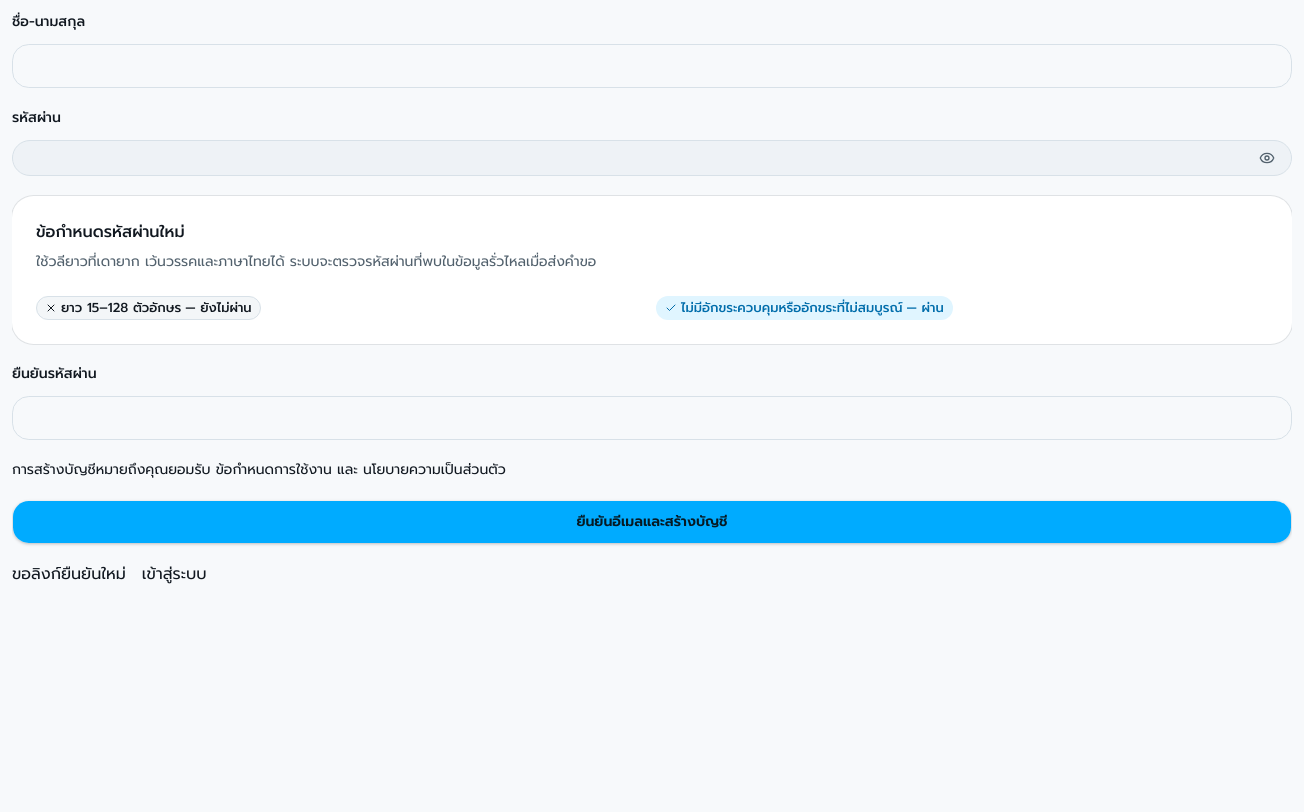
Test: email verification UI › does not confirm on GET, removes the fragment and submits only when the owner chooses credentials
Type "Mailbox Owner" into the field labelled "ชื่อ-นามสกุล" at (652, 66), box left=12, top=44, right=1292, bottom=88
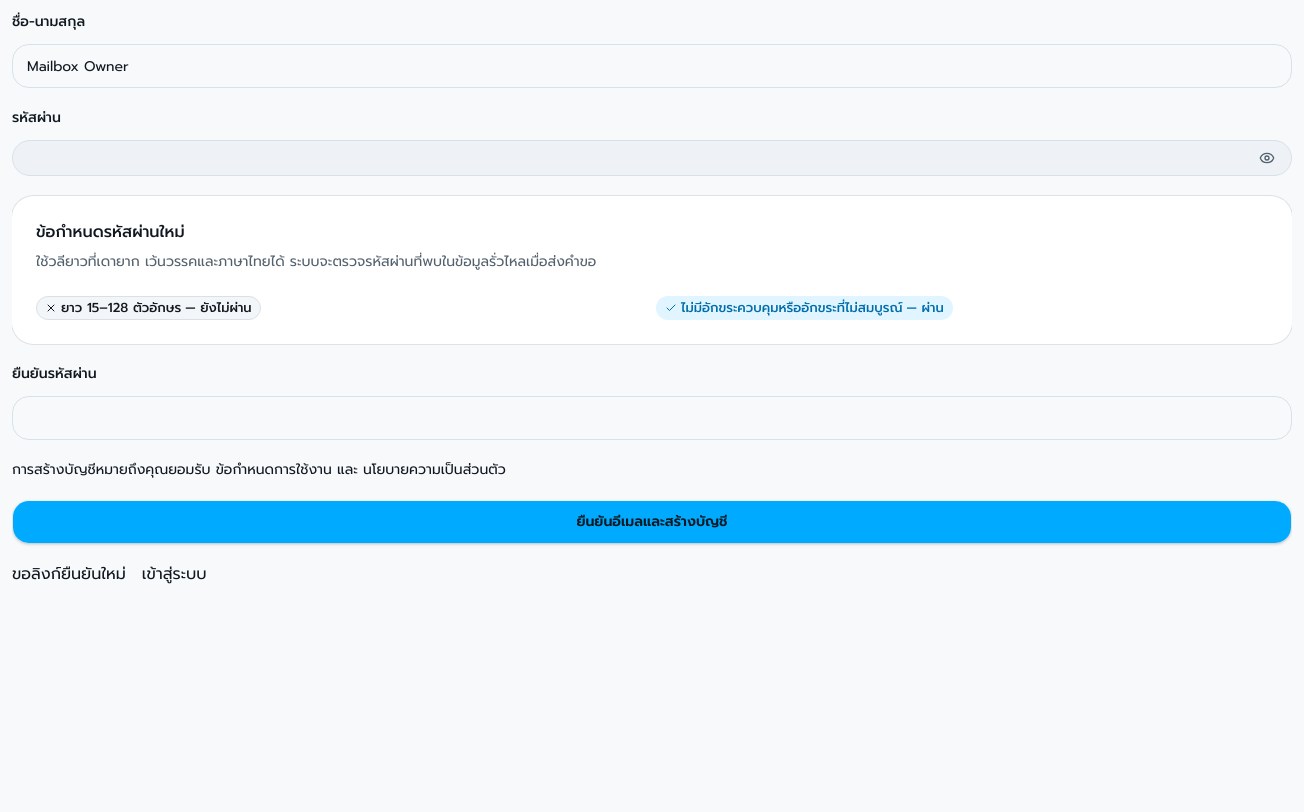
Type "OwnerPassword1!" into the password field labelled "รหัสผ่าน" at (632, 158), box left=13, top=136, right=1251, bottom=180
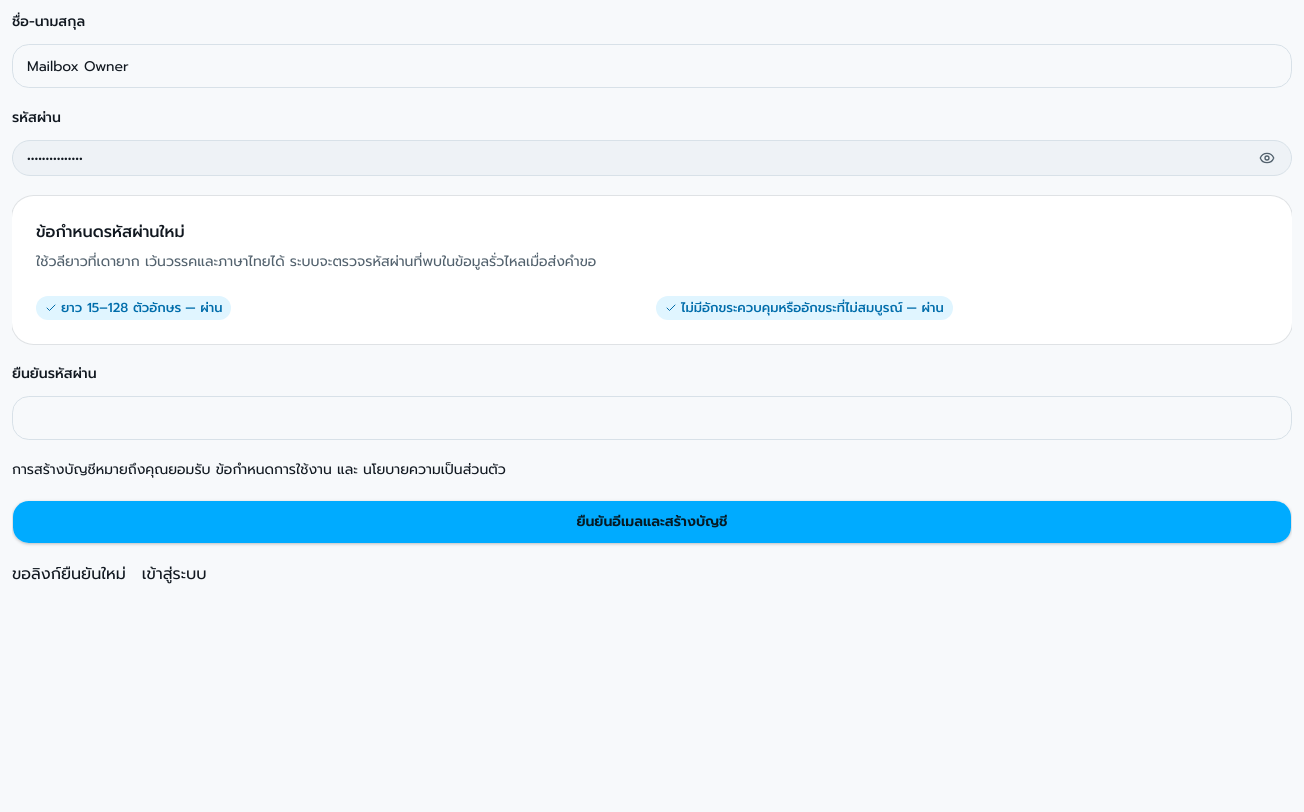
Type "OwnerPassword1!" into the password field labelled "ยืนยันรหัสผ่าน" at (652, 418), box left=12, top=396, right=1292, bottom=440
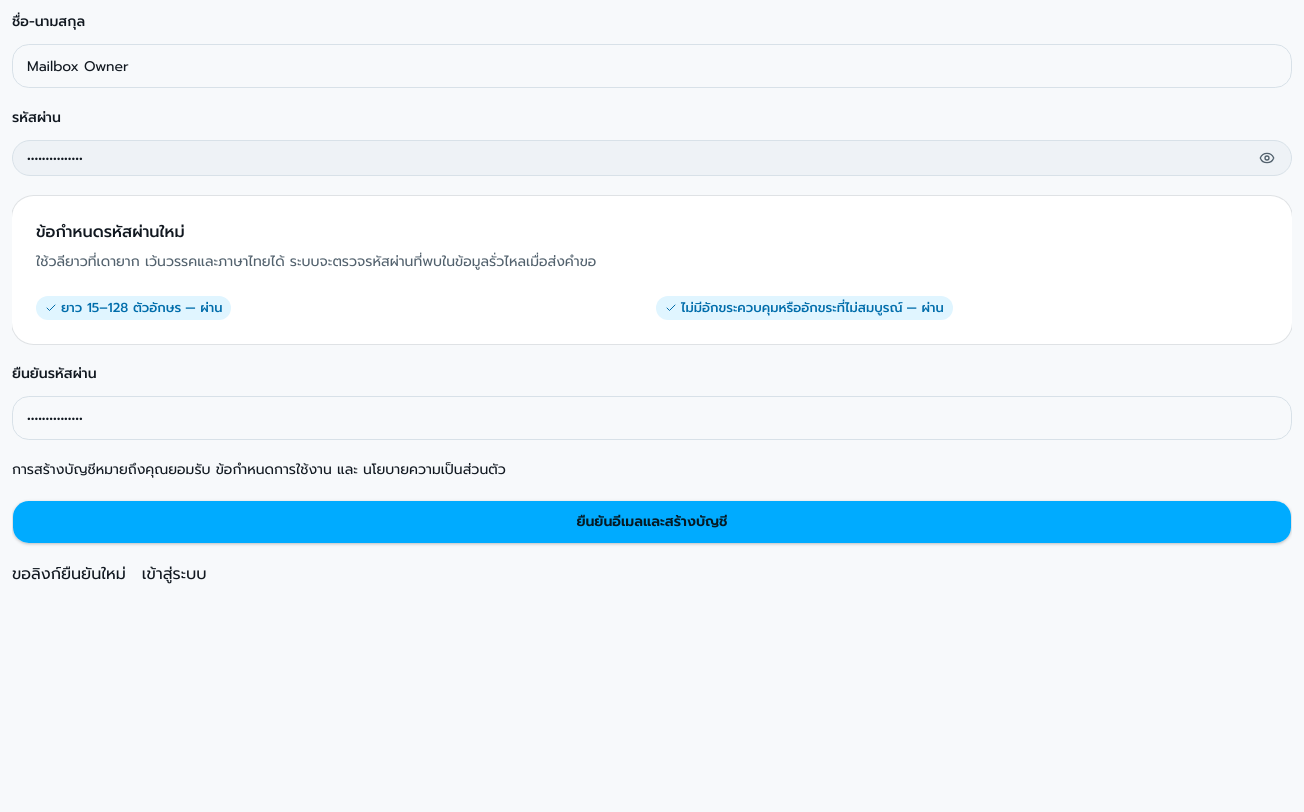
Click the button "ยืนยันอีเมลและสร้างบัญชี" at (652, 522), box left=12, top=500, right=1292, bottom=544
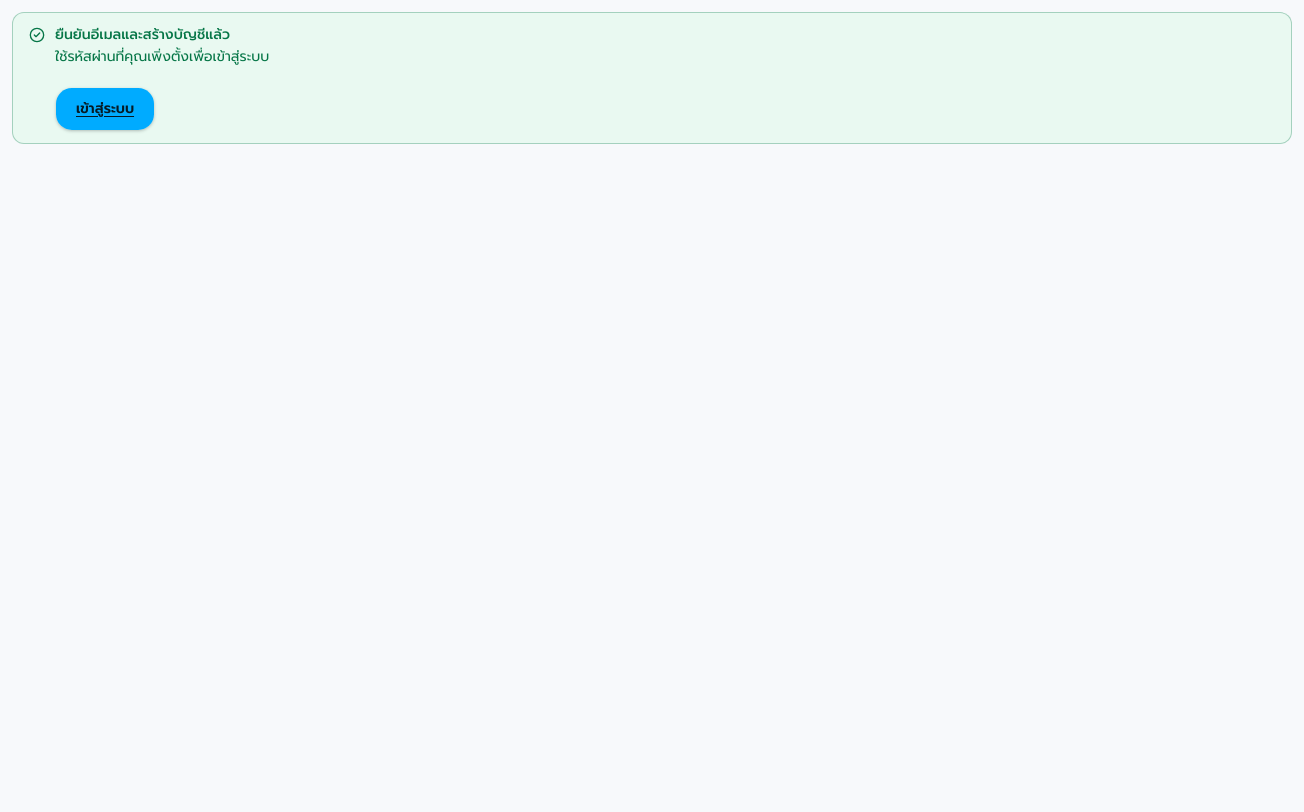
expect the text "ยืนยันอีเมลและสร้างบัญชีแล้ว" is shown: met, box left=55, top=24, right=230, bottom=45
